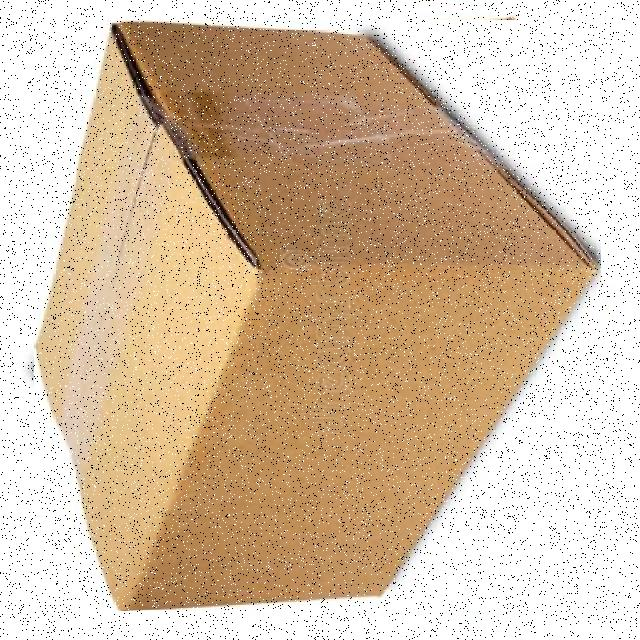normal: (34, 20, 601, 611)
